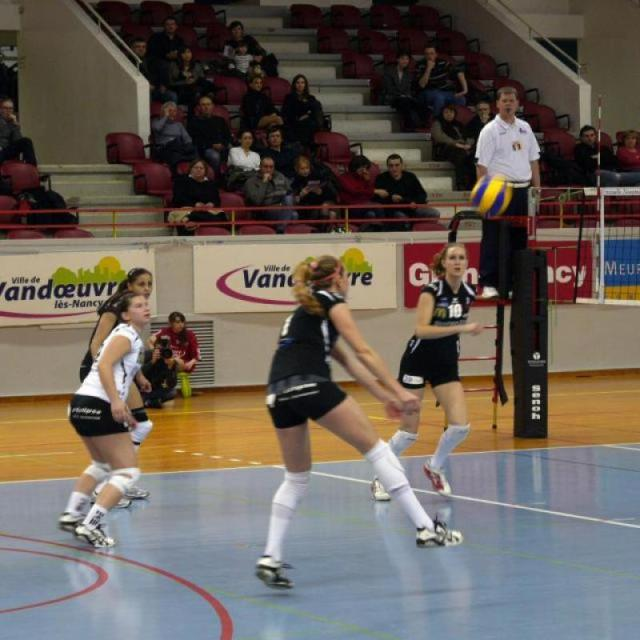volleyball: (467, 172, 515, 218)
